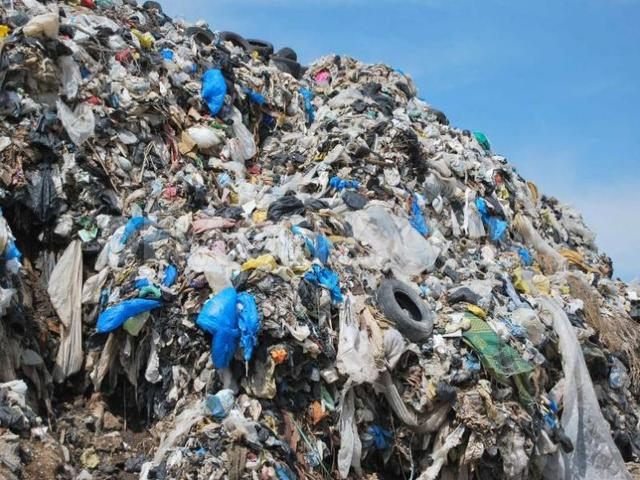garbage: (11, 63, 404, 464), (418, 189, 558, 480)
